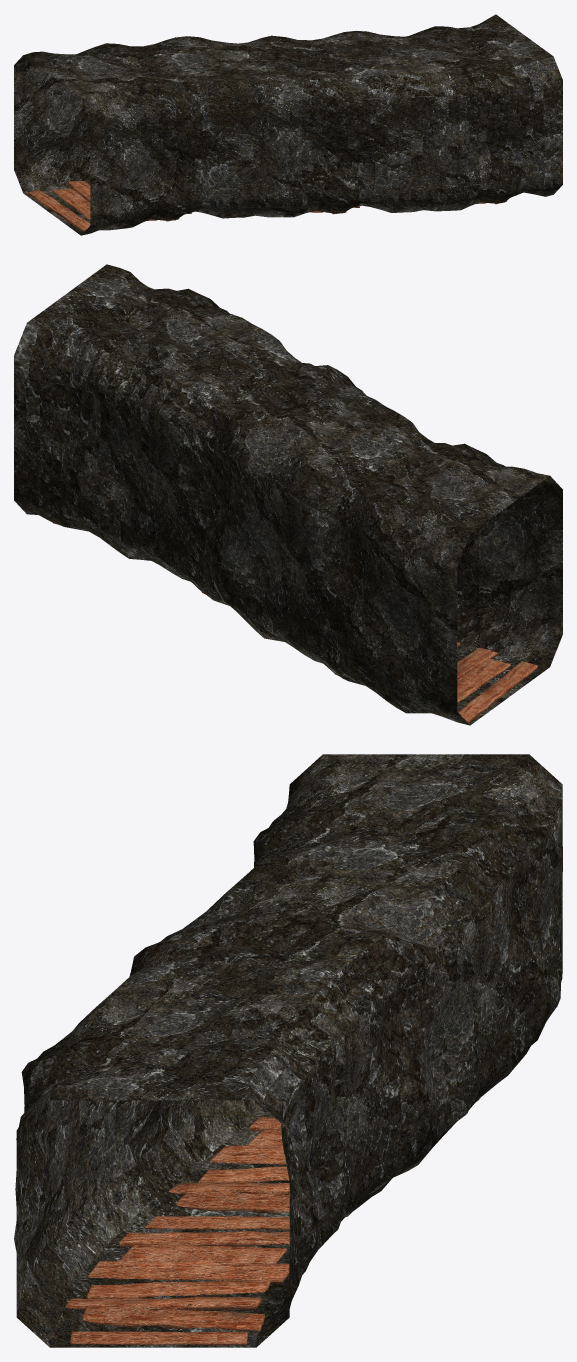
The model's file is Cave_101.fbx.
3 renders of one model, top to bottom at view 1: azimuth 30°, elevation 25°; view 2: azimuth 150°, elevation 25°; view 3: azimuth 270°, elevation 25°, orthographic. The views are drawn at different scales.
Parts seen in each view (by area): view 1: Cave.101; view 2: Cave.101; view 3: Cave.101.
Part boxes in pixels (box(x1,y1,x2,y2)): Cave.101: box(14, 14, 562, 235); Cave.101: box(14, 264, 562, 725); Cave.101: box(14, 754, 562, 1347).
Size of the model in its own units: 900 by 313 by 603.
